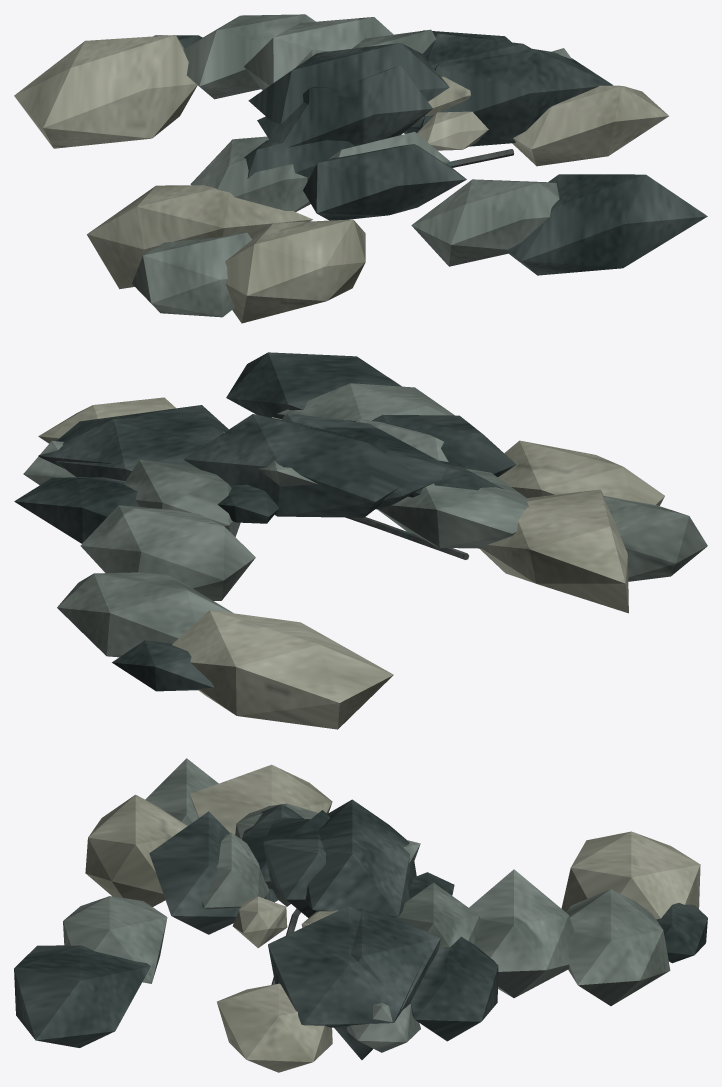
File: 0116_scree_pile_16.glb
The picture shows the model from 3 angles, top to bottom: view 1: azimuth 30°, elevation 25°; view 2: azimuth 150°, elevation 25°; view 3: azimuth 270°, elevation 25°; orthographic projection. The views are drawn at different scales.
Visible parts, largest first — view 1: stone_dark, stone_light, stone; view 2: stone_dark, stone, stone_light, iron; view 3: stone_dark, stone, stone_light.
Part boxes in pixels (x1=…): stone_dark: x1=154, y1=30, x2=707, y2=275; stone_light: x1=14, y1=35, x2=668, y2=323; stone: x1=132, y1=14, x2=572, y2=317; stone_dark: x1=14, y1=352, x2=516, y2=691; stone: x1=23, y1=383, x2=707, y2=657; stone_light: x1=38, y1=397, x2=664, y2=729; iron: x1=345, y1=517, x2=468, y2=559; stone_dark: x1=14, y1=799, x2=707, y2=1059; stone: x1=63, y1=758, x2=670, y2=1052; stone_light: x1=85, y1=764, x2=700, y2=1072.
Size of the model in its own units: 2.9 by 0.7409 by 2.94.
Materials: 4 (4 with a texture image).
